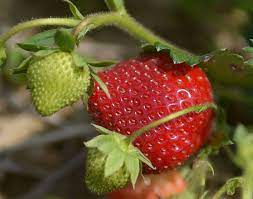ripe: (90, 53, 225, 174)
unripe: (23, 47, 95, 120), (86, 132, 144, 194)
